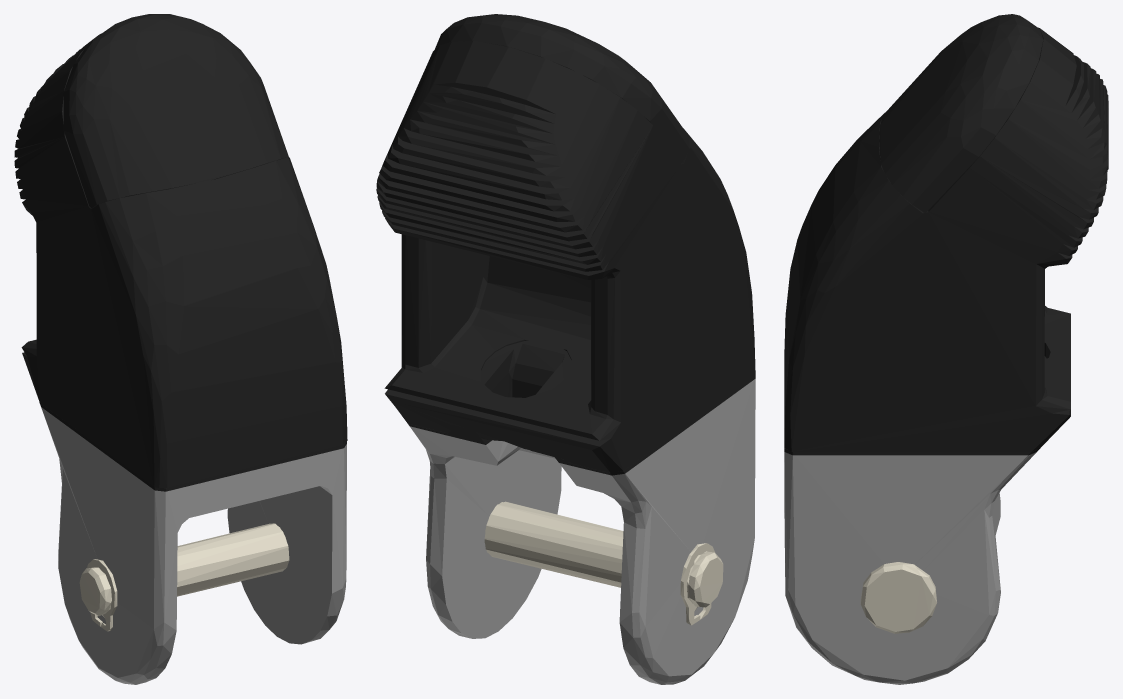
Rendered from lf_distal.dae.
The picture shows the model from 3 angles, left to right: view 1: azimuth 30°, elevation 25°; view 2: azimuth 150°, elevation 25°; view 3: azimuth 270°, elevation 25°; orthographic projection. The views are drawn at different scales.
Parts seen in each view (by area): view 1: SIH_right_004, SIH_right_054, SIH_right_053, SIH_right_051; view 2: SIH_right_004, SIH_right_054, SIH_right_051, SIH_right_053; view 3: SIH_right_004, SIH_right_054, SIH_right_053, SIH_right_051.
Boxes of the visible parts, x1,y1,x2,y2 form: SIH_right_004: (14, 33, 347, 491); SIH_right_054: (41, 407, 346, 684); SIH_right_053: (63, 14, 288, 208); SIH_right_051: (79, 523, 289, 631); SIH_right_004: (376, 41, 755, 475); SIH_right_054: (409, 379, 755, 684); SIH_right_051: (484, 501, 723, 625); SIH_right_053: (434, 14, 689, 163); SIH_right_004: (784, 27, 1108, 455); SIH_right_054: (784, 452, 1036, 684); SIH_right_053: (879, 14, 1043, 212); SIH_right_051: (860, 562, 936, 633).
Bounding box in the file's own units: 20.02 × 25.47 × 53.14.
